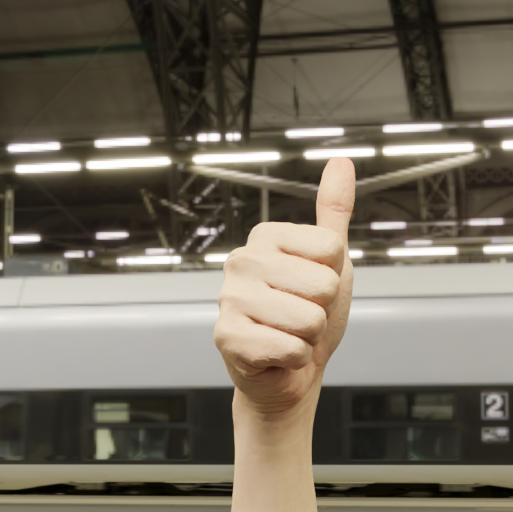thumbs-up: (214, 146, 360, 404)
